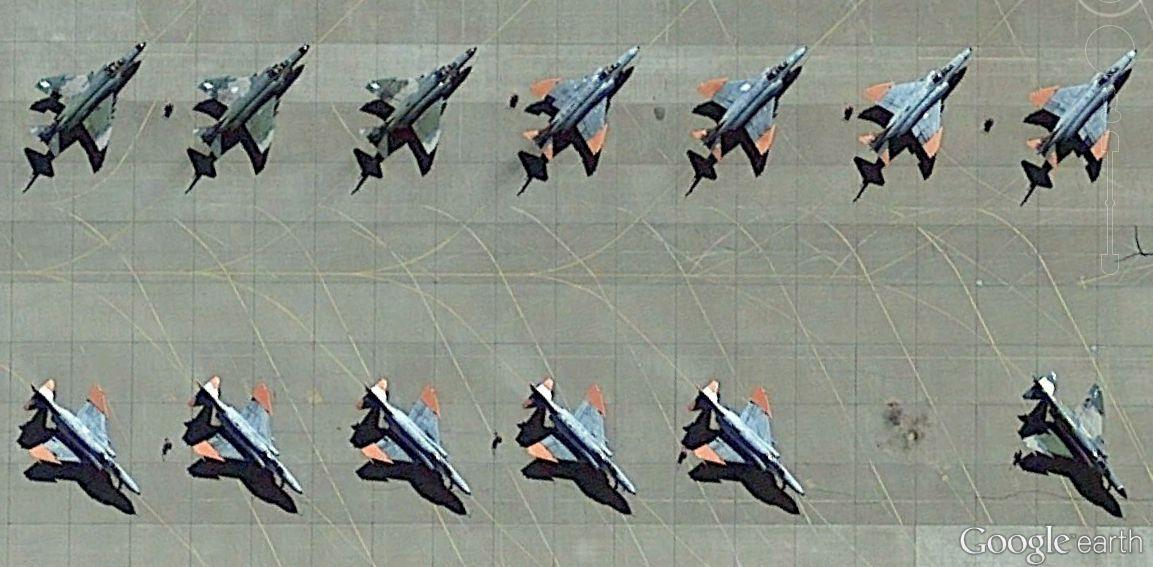plane: (850, 44, 979, 184), (1009, 366, 1137, 506), (1018, 46, 1139, 194), (179, 42, 311, 176), (515, 45, 642, 182), (680, 46, 810, 177), (352, 43, 482, 172), (681, 375, 811, 503), (181, 371, 309, 500), (511, 374, 641, 499), (23, 39, 148, 168), (354, 379, 477, 500), (20, 381, 144, 498)
